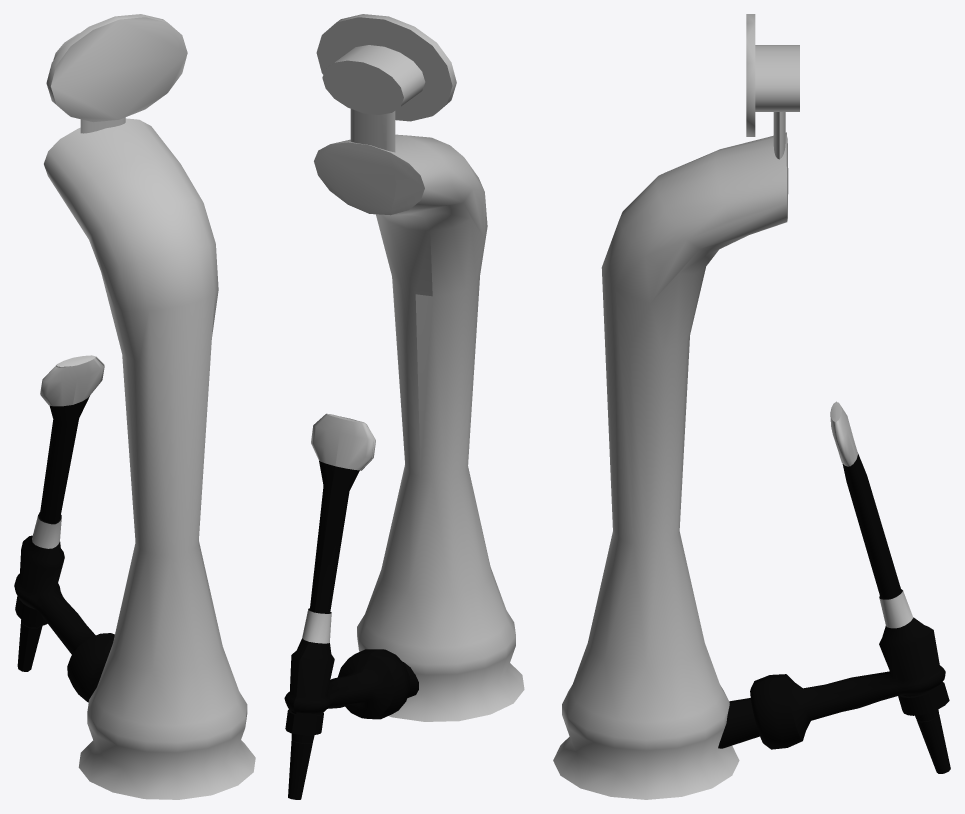
File: tap.gltf
3 renders of one model, left to right at view 1: azimuth 30°, elevation 25°; view 2: azimuth 150°, elevation 25°; view 3: azimuth 270°, elevation 25°, orthographic. The views are drawn at different scales.
Visible parts, largest first — view 1: Stella_Pump_029_Material #194_0; view 2: Stella_Pump_029_Material #194_0; view 3: Stella_Pump_029_Material #194_0.
Boxes of the visible parts, x1,y1,x2,y2 form: Stella_Pump_029_Material #194_0: (14,14,255,799); Stella_Pump_029_Material #194_0: (284,14,524,799); Stella_Pump_029_Material #194_0: (553,14,950,799).
Bounding box in the file's own units: 6.3 × 27.94 × 13.45.
Materials: 3 (1 with a texture image).
